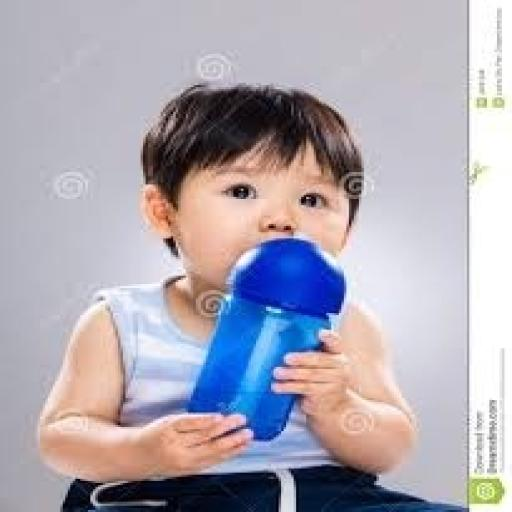drinking: (184, 234, 346, 442)
